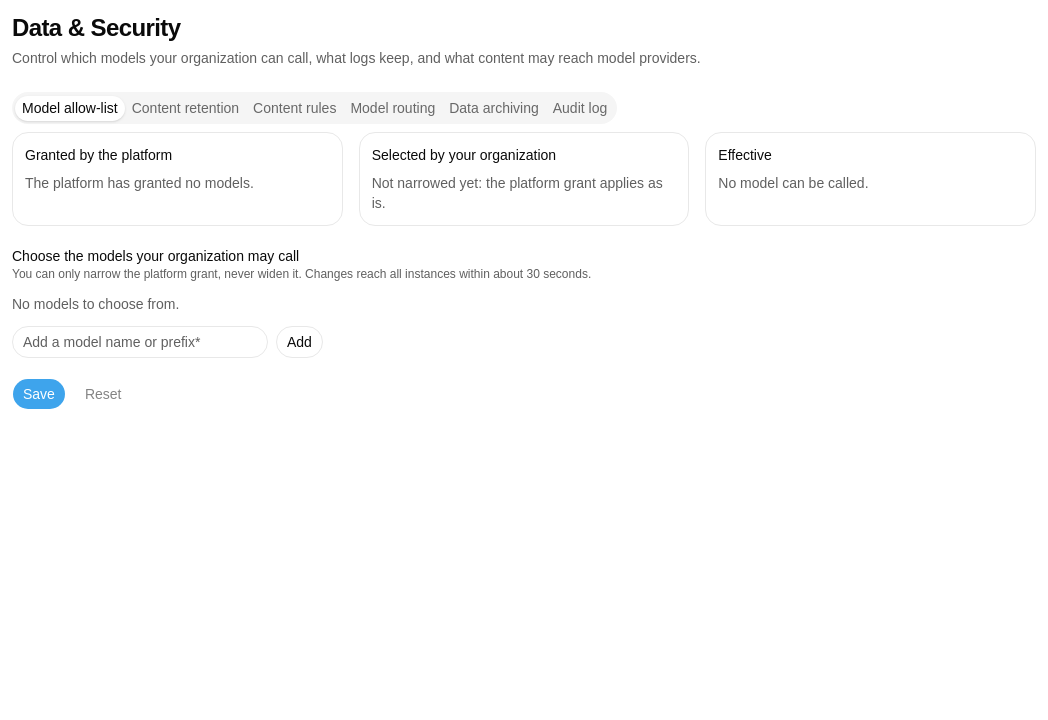
Test: strategy selector › defaults a new policy to decision and shows its fields
The image size is (1048, 720).
Click the tab "Model routing" at {"x": 393, "y": 108}, box [343,96,442,120]
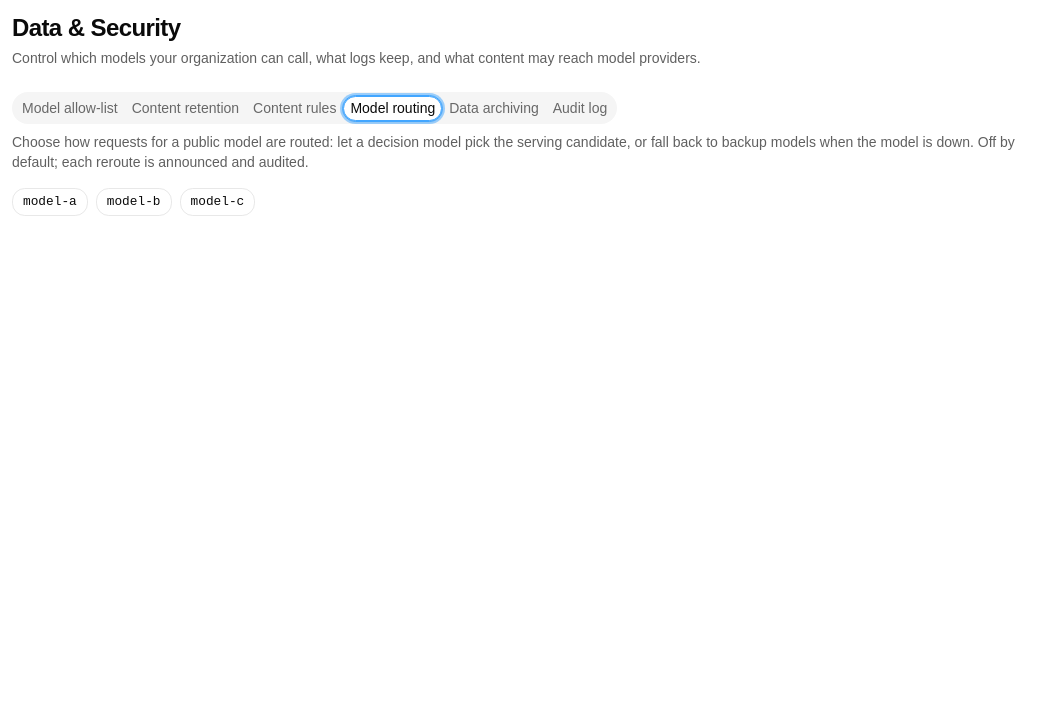
Click the button "model-a" at {"x": 50, "y": 202}, box [12,188,88,216]
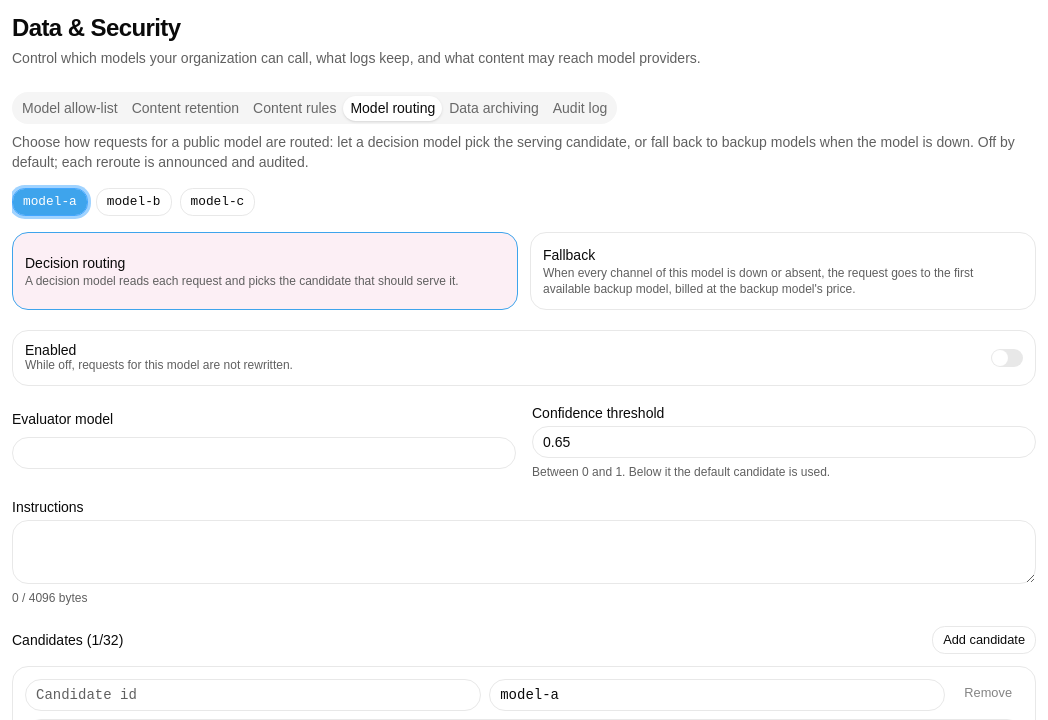
Check: the radio button labelled "Decision routing" is checked, box [12,232,518,310]
